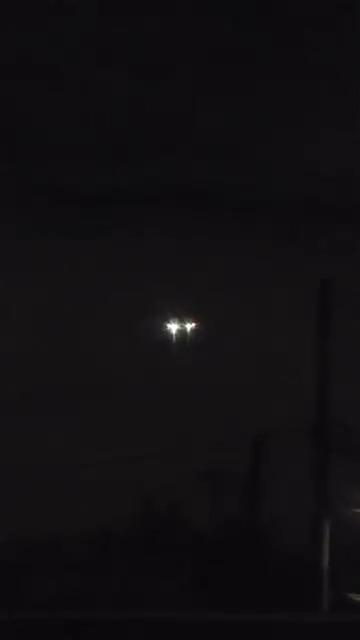Plane: (152, 305, 216, 356)
